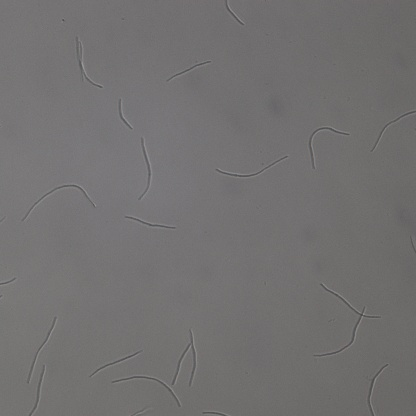Sensitive: (22, 183, 97, 221), (314, 307, 365, 359), (112, 375, 182, 408), (321, 283, 378, 318), (28, 317, 56, 382), (308, 125, 349, 169), (372, 111, 416, 151), (215, 156, 288, 180), (90, 349, 144, 377), (173, 329, 198, 388), (75, 37, 103, 89), (364, 363, 389, 416), (138, 137, 154, 196), (167, 60, 209, 80), (28, 366, 44, 416), (125, 214, 174, 228), (115, 98, 134, 131), (225, 1, 244, 25)
